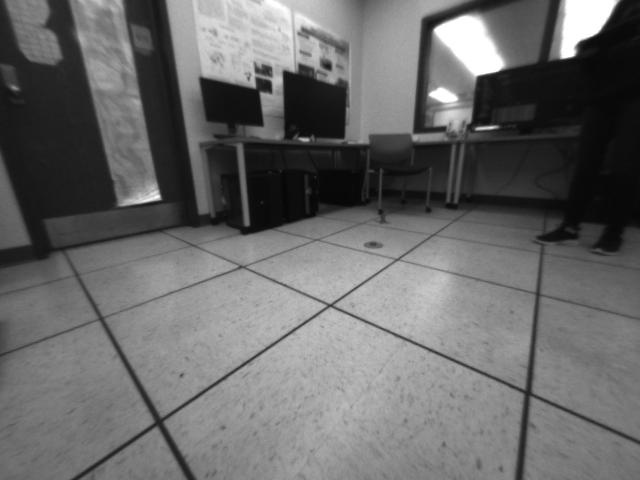X: (374, 214, 391, 226)
